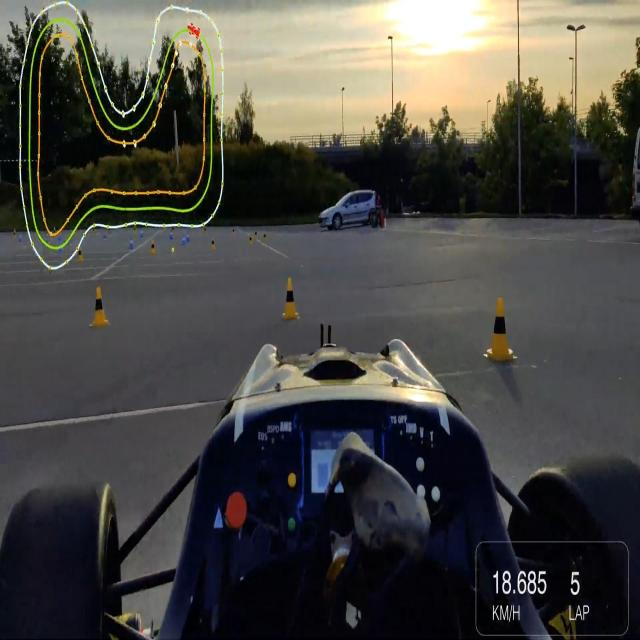yellow_cone: (486, 291, 518, 376), (275, 272, 304, 322), (89, 278, 109, 334)
